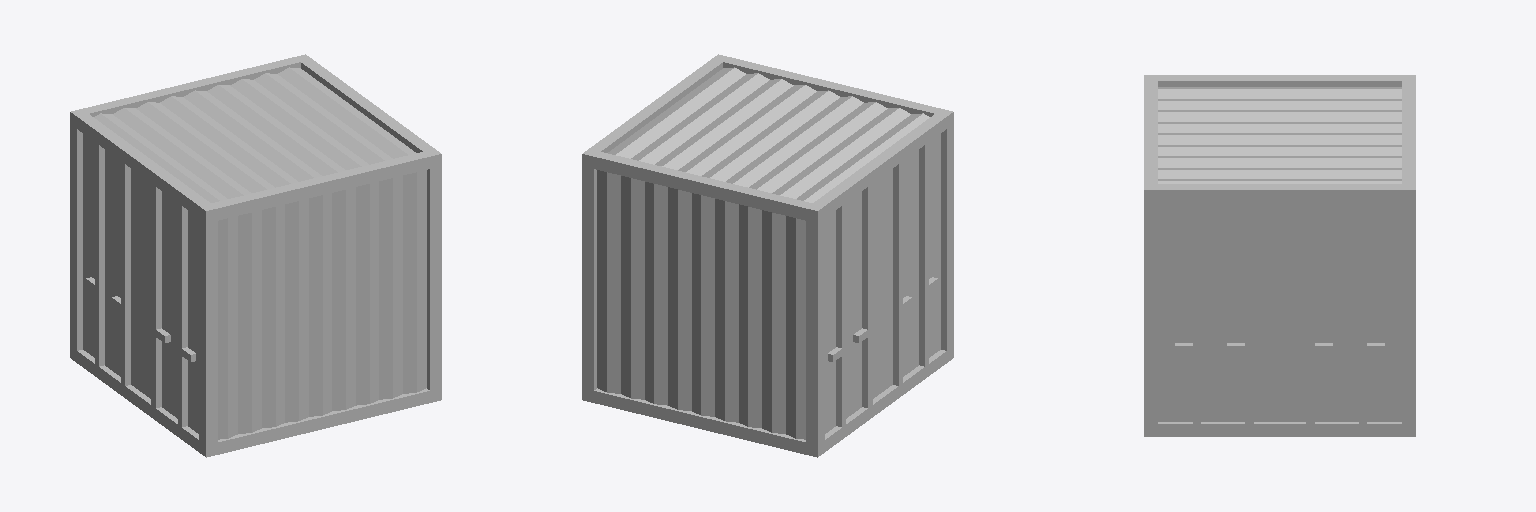
Rendered from shipping_container_mini.obj.
3 views of the same model, side by side, from view 1: azimuth 30°, elevation 25°; view 2: azimuth 150°, elevation 25°; view 3: azimuth 270°, elevation 25° (orthographic).
Visible parts, largest first — view 1: Cube; view 2: Cube; view 3: Cube.
Boxes of the visible parts, x1,y1,x2,y2 form: Cube: [70, 54, 441, 457]; Cube: [582, 54, 953, 457]; Cube: [1144, 75, 1415, 436].
Size of the model in its own units: 1 by 1 by 1.